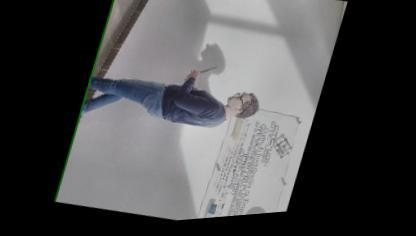knife: (190, 61, 223, 85)
